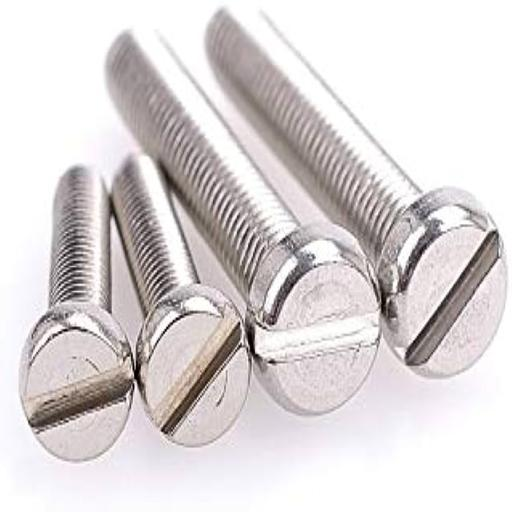Slotted: (376, 187, 509, 383), (248, 221, 380, 413), (138, 284, 252, 449), (21, 302, 134, 466)
